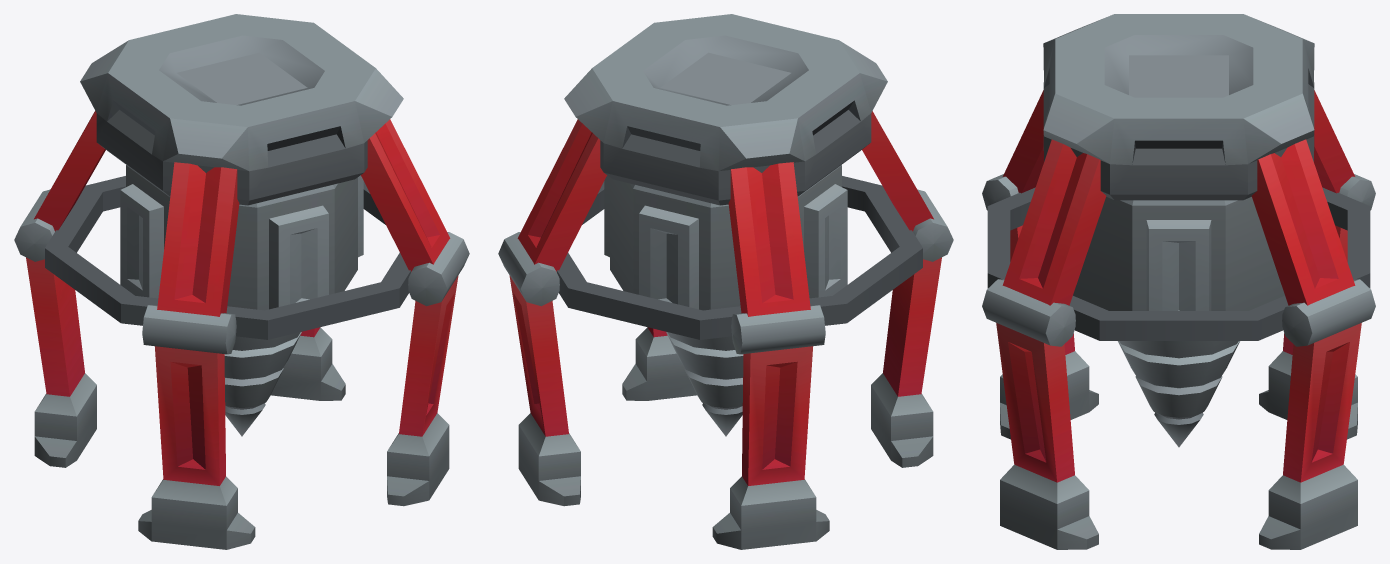
File: drill.glb
The picture shows the model from 3 angles, left to right: view 1: azimuth 30°, elevation 25°; view 2: azimuth 150°, elevation 25°; view 3: azimuth 270°, elevation 25°; orthographic projection. The views are drawn at different scales.
Parts seen in each view (by area): view 1: drill_structure, drill_module; view 2: drill_structure, drill_module; view 3: drill_structure, drill_module.
Boxes of the visible parts, left/top/right/bottom form: drill_structure: left=14, top=14, right=469, bottom=549; drill_module: left=120, top=165, right=363, bottom=436; drill_structure: left=498, top=14, right=953, bottom=549; drill_module: left=604, top=165, right=847, bottom=436; drill_structure: left=982, top=14, right=1375, bottom=549; drill_module: left=1073, top=197, right=1284, bottom=447.
Size of the model in its own units: 1.75 by 2 by 1.75.
1 material, 1 textured.
